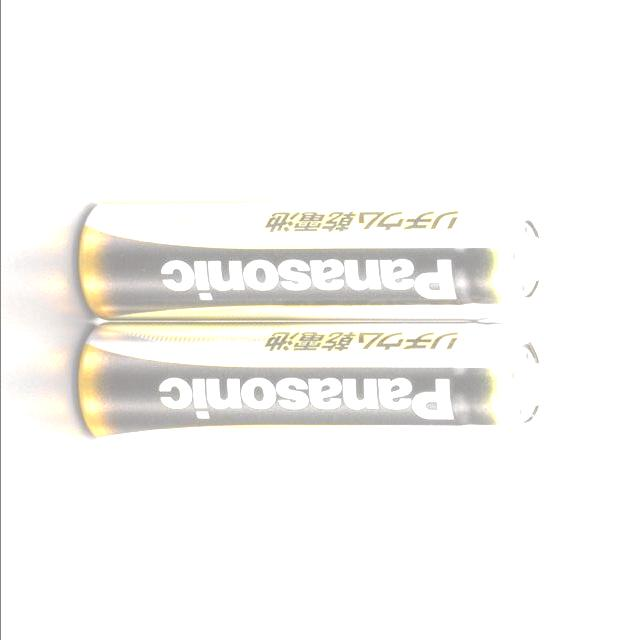AAA: (59, 193, 548, 324), (60, 320, 547, 449)
